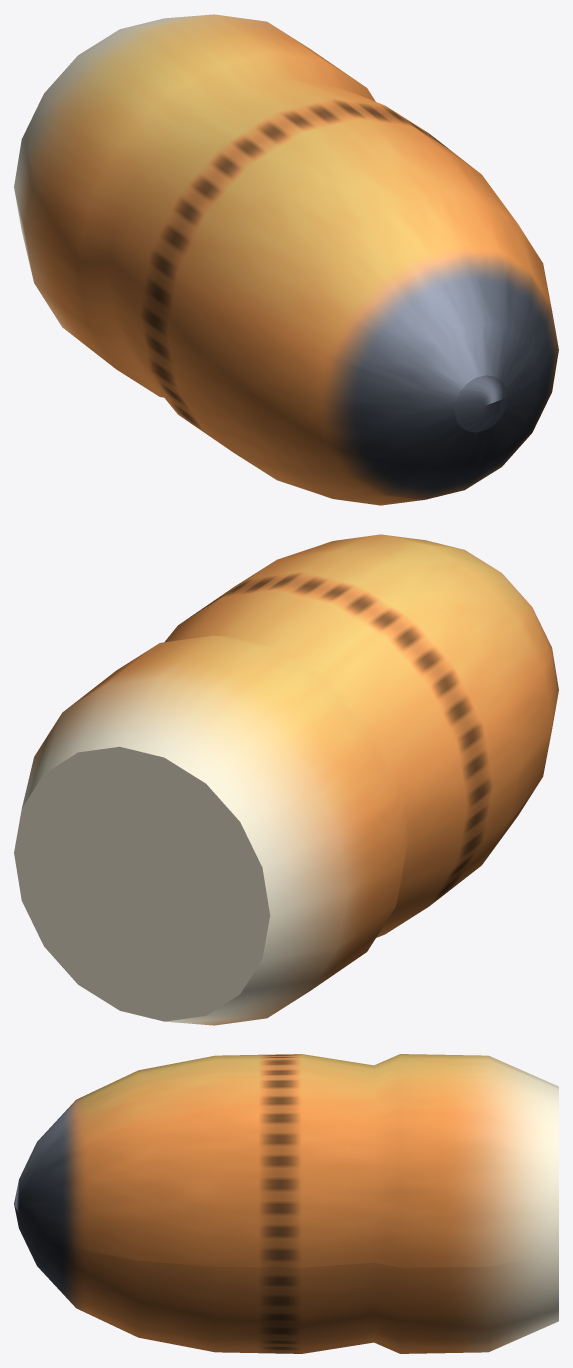
The model's file is duckov_bullet_fmj.obj.
3 renders of one model, top to bottom at view 1: azimuth 30°, elevation 25°; view 2: azimuth 150°, elevation 25°; view 3: azimuth 270°, elevation 25°, orthographic. The views are drawn at different scales.
Visible parts, largest first — view 1: DuckovBulletFMJ; view 2: DuckovBulletFMJ; view 3: DuckovBulletFMJ.
Boxes of the visible parts, x1,y1,x2,y2 form: DuckovBulletFMJ: (14,14,558,505); DuckovBulletFMJ: (14,534,558,1025); DuckovBulletFMJ: (14,1054,558,1353).
Bounding box in the file's own units: 0.184 × 0.1812 × 0.333.
Materials: 1 (1 with a texture image).
